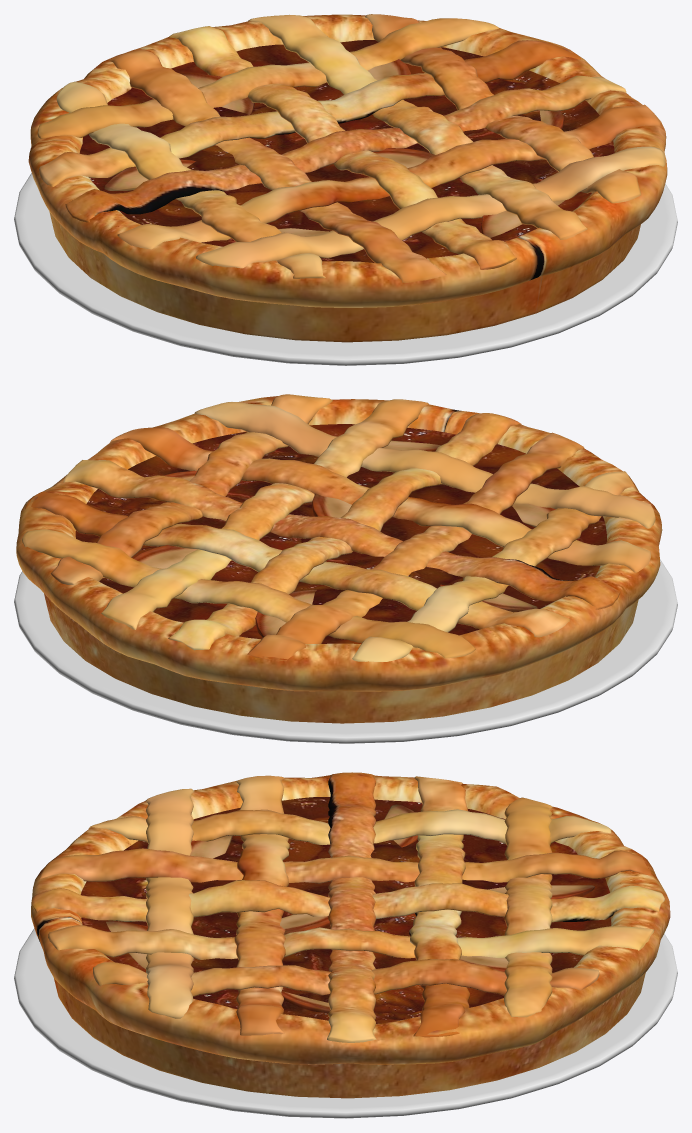
File: Ponque_UVS.fbx
3 renders of one model, top to bottom at view 1: azimuth 30°, elevation 25°; view 2: azimuth 150°, elevation 25°; view 3: azimuth 270°, elevation 25°, orthographic.
Visible parts, largest first — view 1: Ponque, Plato; view 2: Ponque, Plato; view 3: Ponque, Plato.
Boxes of the visible parts, box(x1,y1,x2,y2) form: Ponque: box(28, 14, 667, 342); Plato: box(14, 173, 677, 365); Ponque: box(16, 394, 662, 723); Plato: box(14, 559, 677, 743); Ponque: box(31, 772, 670, 1098); Plato: box(14, 928, 677, 1118).
Bounding box in the file's own units: 25.62 × 5.23 × 25.62.
2 materials, 1 textured.
